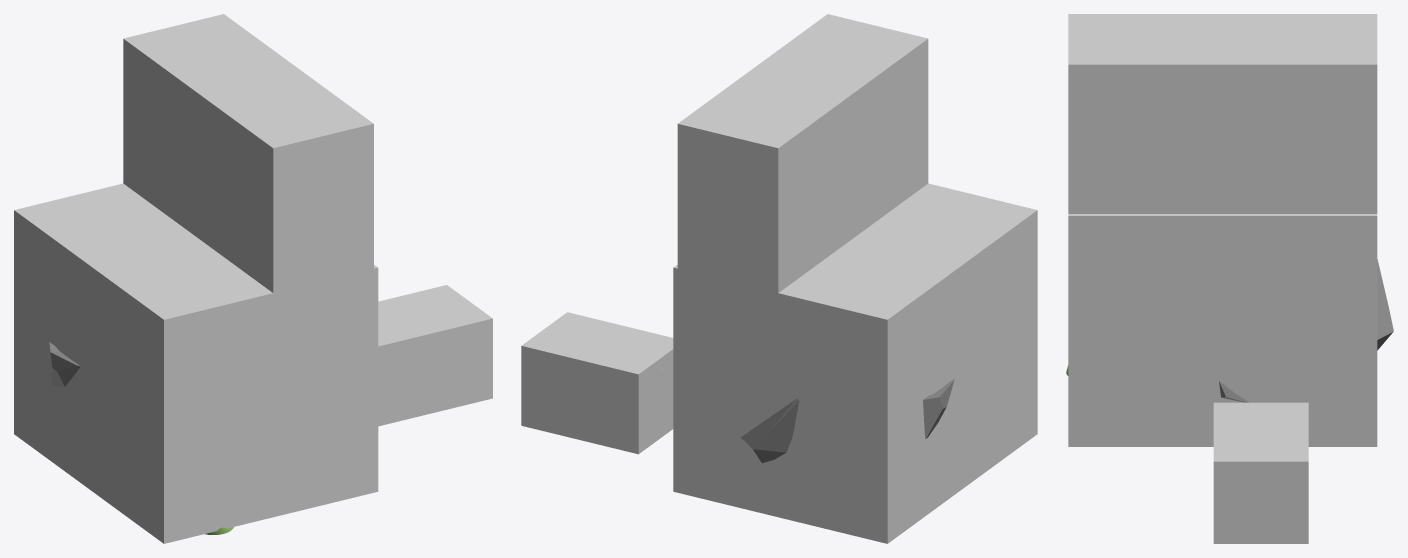
3 renders of one model, left to right at view 1: azimuth 30°, elevation 25°; view 2: azimuth 150°, elevation 25°; view 3: azimuth 270°, elevation 25°, orthographic. The views are drawn at different scales.
Visible parts, largest first — view 1: Sword in the Stone_col, Origami flower_col, Stone.002; view 2: Sword in the Stone_col, Origami flower_col, Stone.002; view 3: Sword in the Stone_col, Origami flower_col, Stone.002.
Boxes of the visible parts, <box> form: Sword in the Stone_col: <box>14,14,378,543</box>; Origami flower_col: <box>378,285,492,426</box>; Stone.002: <box>49,342,80,386</box>; Sword in the Stone_col: <box>673,14,1037,543</box>; Origami flower_col: <box>521,312,673,454</box>; Stone.002: <box>741,379,954,462</box>; Sword in the Stone_col: <box>1068,14,1377,446</box>; Origami flower_col: <box>1213,402,1308,543</box>; Stone.002: <box>1219,259,1393,402</box>.
Size of the model in its own units: 214 by 187 by 144.
